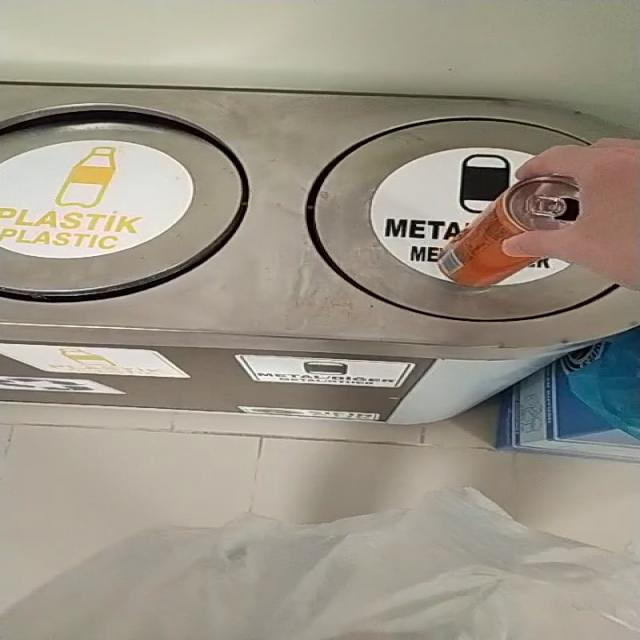bin: (1, 84, 639, 425)
metal: (439, 175, 580, 287)
